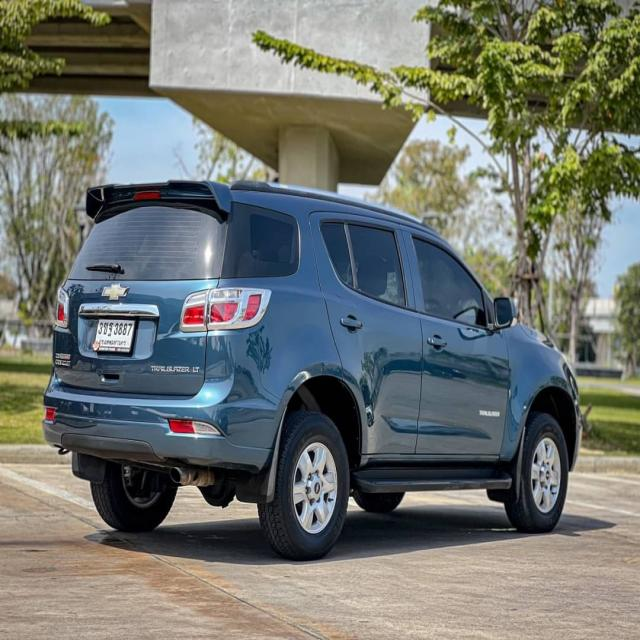license_plate: (91, 316, 139, 355)
